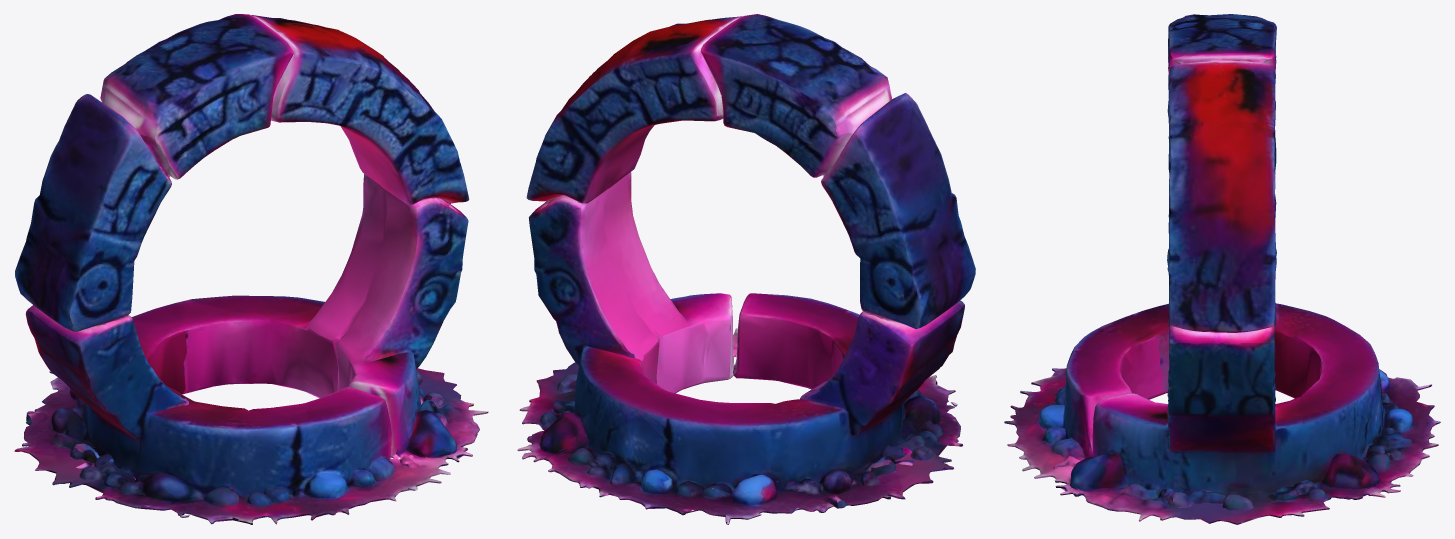
File: well-of-mimir-ring-generated-2026-05-17T18-01-18-242Z.low.glb
3 views of the same model, side by side, from view 1: azimuth 30°, elevation 25°; view 2: azimuth 150°, elevation 25°; view 3: azimuth 270°, elevation 25° (orthographic). The views are drawn at different scales.
Parts seen in each view (by area): view 1: temp_mesh.ply; view 2: temp_mesh.ply; view 3: temp_mesh.ply.
Boxes of the visible parts, x1,y1,x2,y2 form: temp_mesh.ply: [14, 14, 488, 524]; temp_mesh.ply: [517, 14, 975, 524]; temp_mesh.ply: [1004, 14, 1440, 524].
Size of the model in its own units: 1.97 by 1.83 by 1.87.
1 material, 1 textured.
